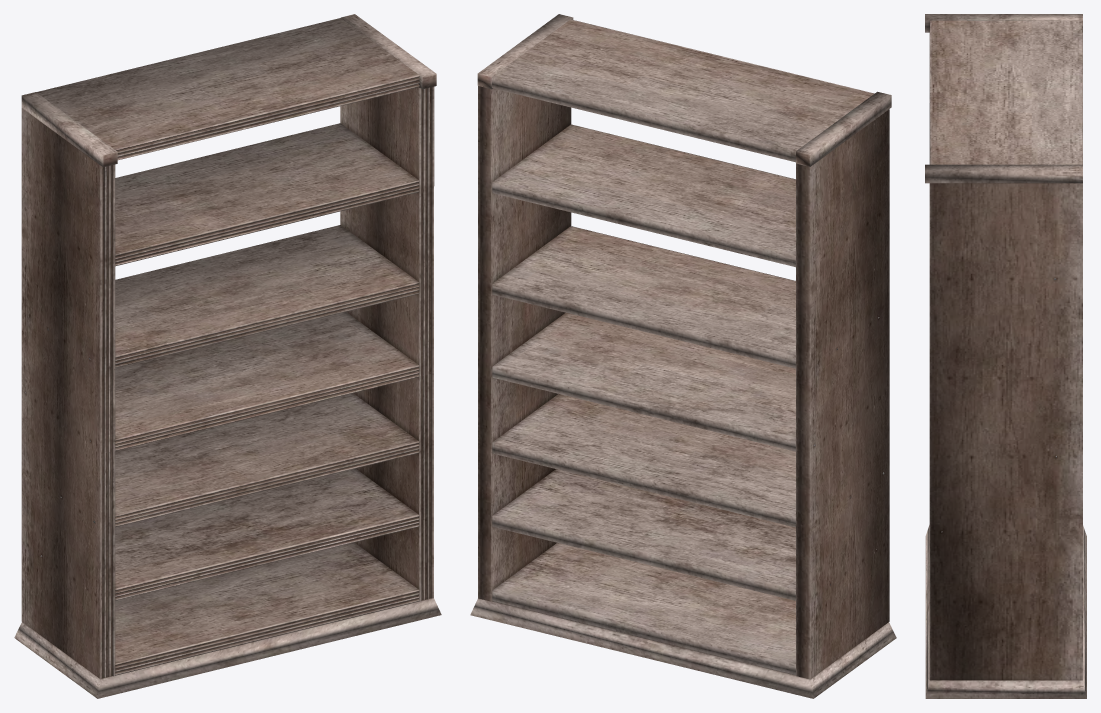
The model's file is bookshelf.glb.
The picture shows the model from 3 angles, left to right: view 1: azimuth 30°, elevation 25°; view 2: azimuth 150°, elevation 25°; view 3: azimuth 270°, elevation 25°; orthographic projection. The views are drawn at different scales.
Visible parts, largest first — view 1: wooden_bookshelf_worn; view 2: wooden_bookshelf_worn; view 3: wooden_bookshelf_worn.
Part boxes in pixels (left/top/right/bottom): wooden_bookshelf_worn: left=14, top=14, right=441, bottom=698; wooden_bookshelf_worn: left=470, top=14, right=896, bottom=698; wooden_bookshelf_worn: left=925, top=14, right=1086, bottom=698.
Bounding box in the file's own units: 1.37 × 2.06 × 0.5766.
1 material, 1 textured.
